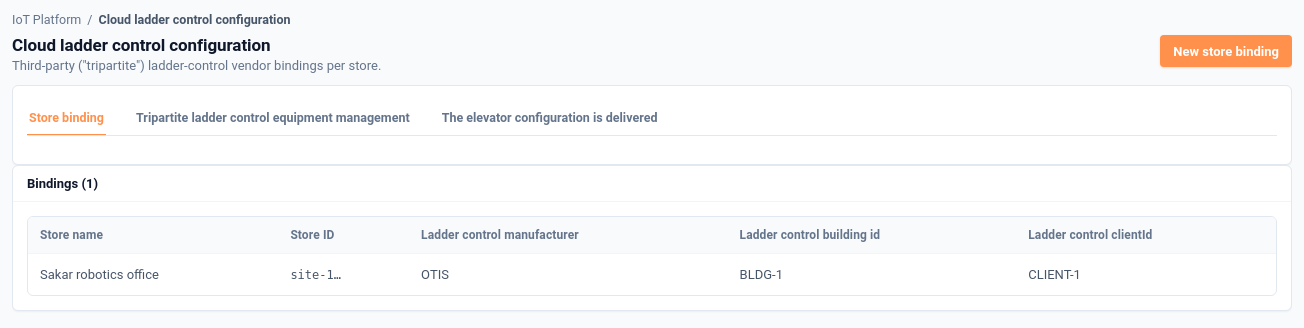
Test: CloudLadderControlPage › shows only bound-store devices on the Tripartite ladder control equipment management tab
The width and height of the screenshot is (1304, 328).
expect the text "OTIS" is shown: met, box left=409, top=253, right=728, bottom=295
Click the tab "Tripartite ladder control equipment management" at (273, 118), box left=134, top=100, right=412, bottom=136
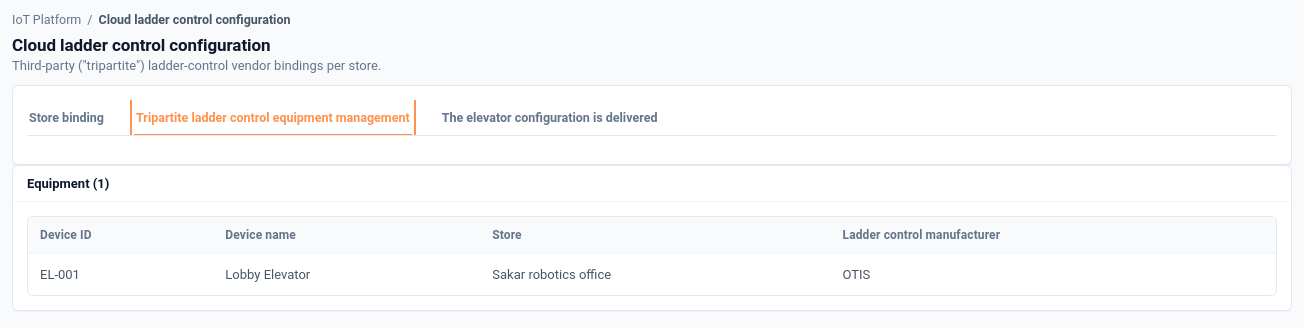
expect the text "EL-001" is shown: met, box left=28, top=253, right=213, bottom=295
